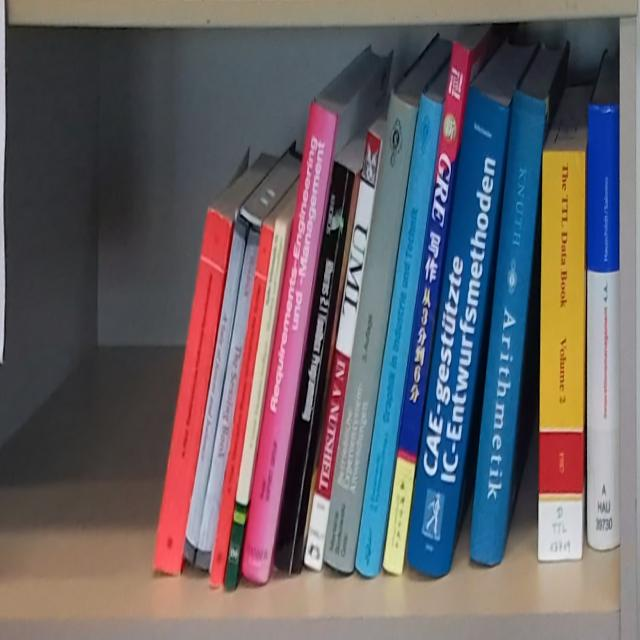Book Spine: (406, 85, 512, 583), (241, 101, 339, 583), (325, 87, 419, 574), (383, 42, 469, 574), (355, 92, 443, 577), (470, 88, 548, 569), (302, 130, 383, 574), (273, 161, 356, 576), (152, 207, 234, 579), (222, 222, 287, 589), (208, 225, 273, 586), (181, 220, 246, 568), (194, 231, 259, 574), (537, 151, 586, 560), (588, 101, 621, 551)
